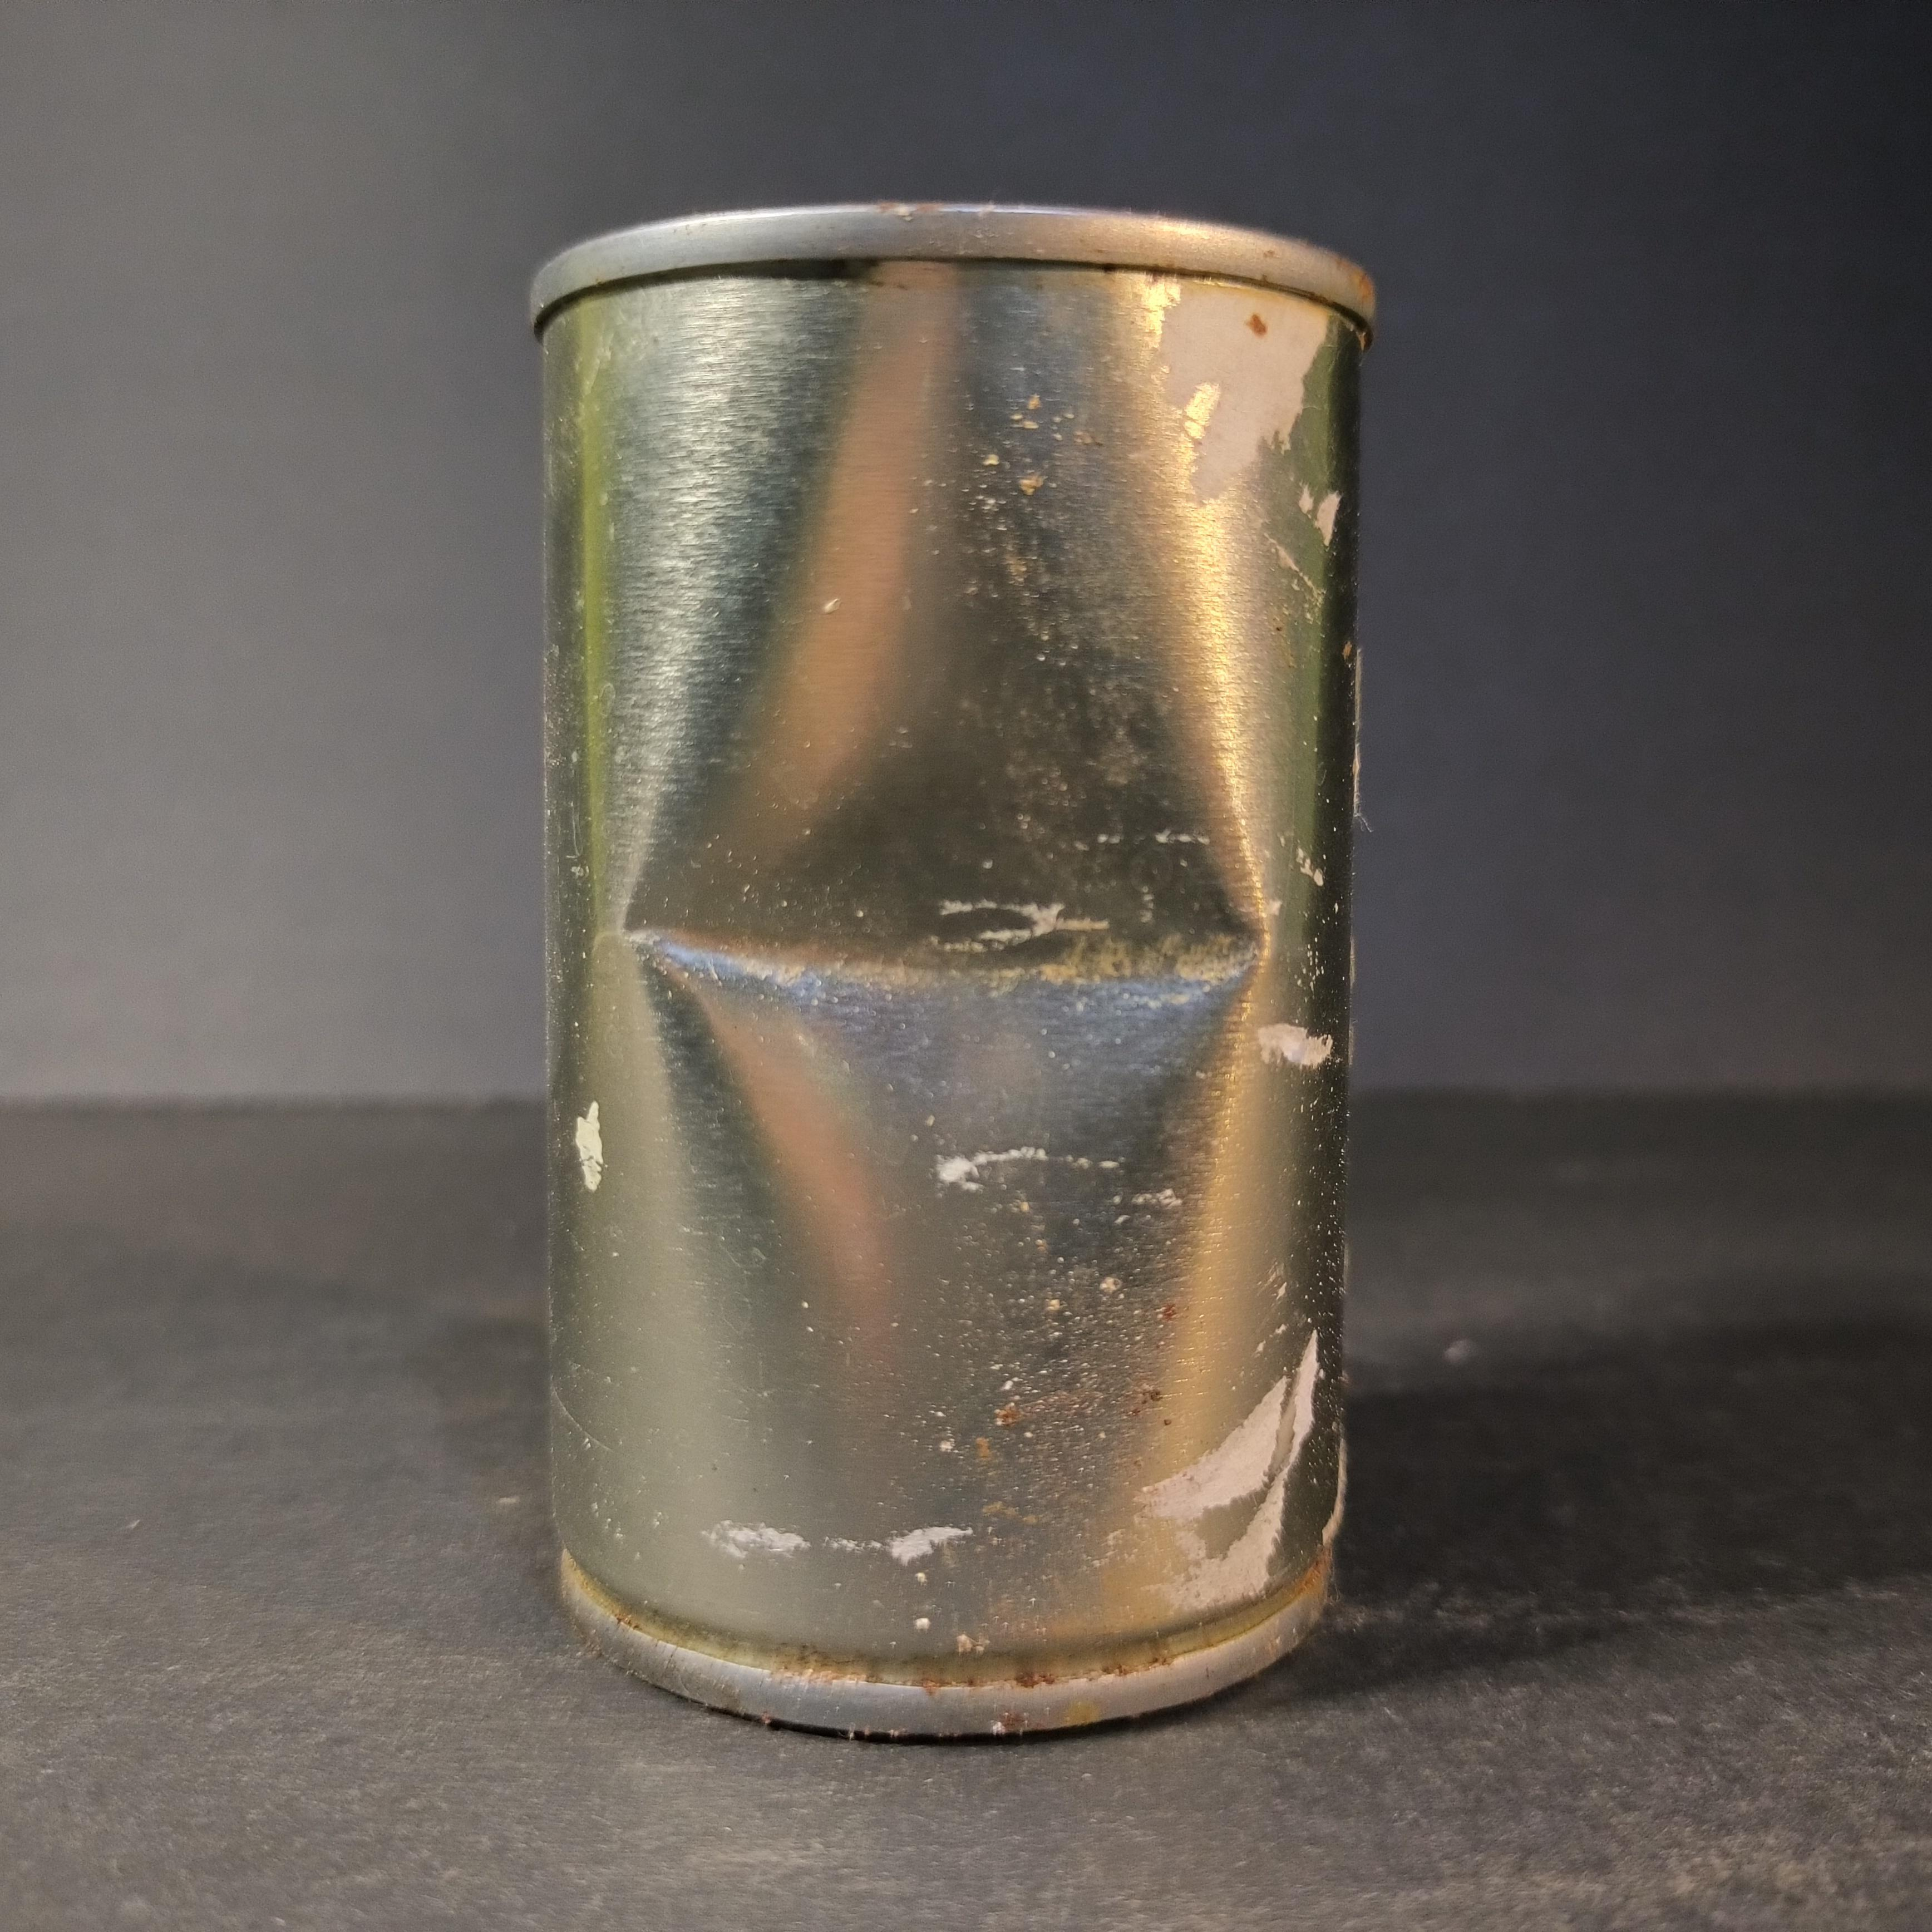Dented: (504, 173, 1391, 1764)
